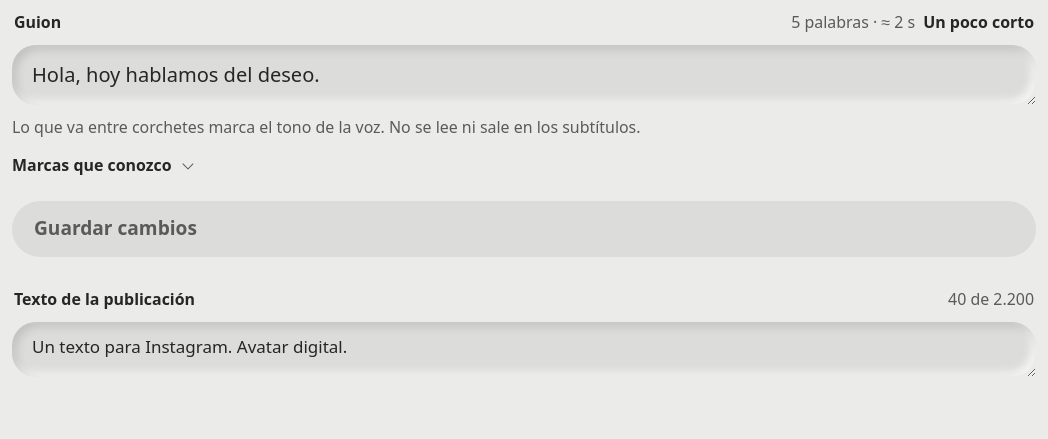
EditorDeGuion › saves both texts for the version she saw, then says Guardado and hands over the new version
Replace the text in the text box labelled "Guion" with "Hola, otro guion." at point(524, 75), box [12, 45, 1036, 105]
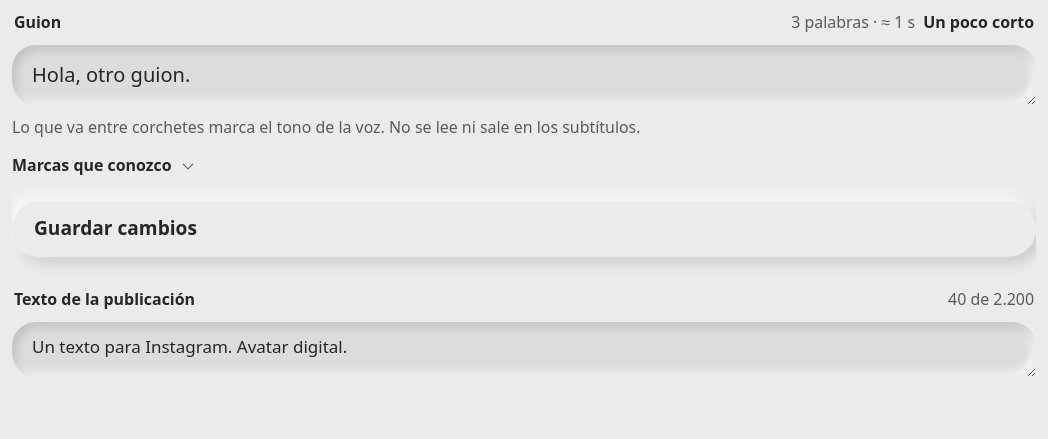
Click the button "Guardar cambios".
click(115, 228)  # box [12, 201, 1036, 257]
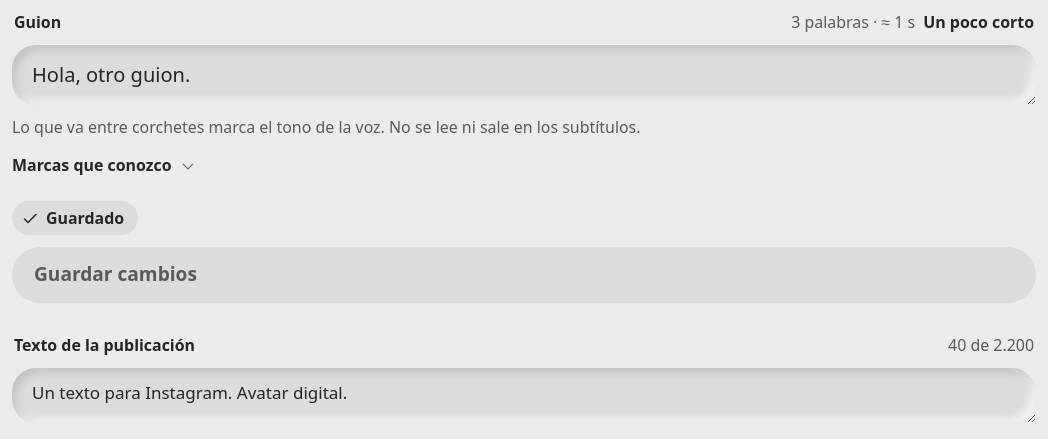
Now the text "Guardado" is shown, box [46, 208, 124, 229]
